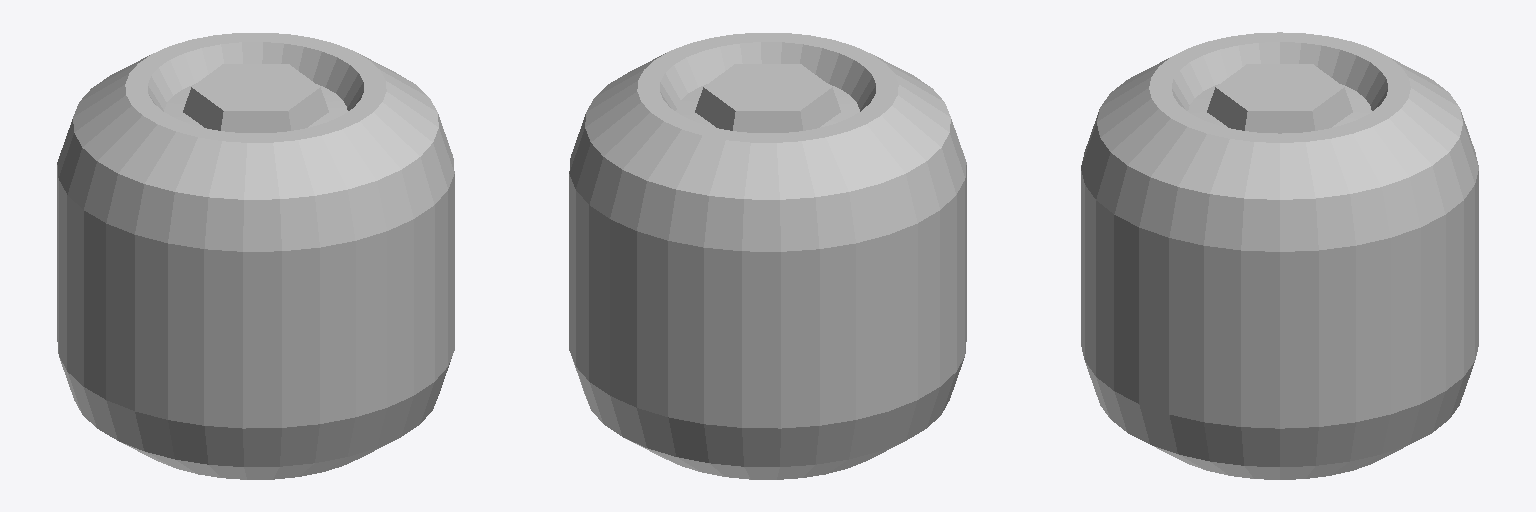
The model's file is station_dock.obj.
The picture shows the model from 3 angles: view 1: azimuth 30°, elevation 25°; view 2: azimuth 150°, elevation 25°; view 3: azimuth 270°, elevation 25°; orthographic projection.
Visible parts, largest first — view 1: Cylinder; view 2: Cylinder; view 3: Cylinder.
Boxes of the visible parts, x1,y1,x2,y2 form: Cylinder: [57, 33, 454, 479]; Cylinder: [569, 33, 966, 479]; Cylinder: [1081, 32, 1478, 479].
Bounding box in the file's own units: 2.13 × 1.99 × 2.13.